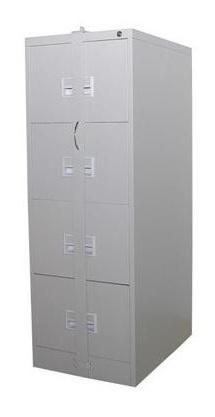cabinet_door: (24, 39, 79, 124), (79, 38, 131, 124), (80, 125, 134, 205), (82, 280, 136, 358), (27, 123, 80, 201), (81, 204, 134, 279), (29, 203, 81, 274), (31, 276, 80, 350)
handle: (65, 235, 78, 256), (84, 234, 96, 256), (66, 311, 77, 332), (63, 158, 75, 177), (86, 314, 98, 333), (63, 78, 74, 97), (82, 76, 92, 96), (84, 159, 94, 178)
